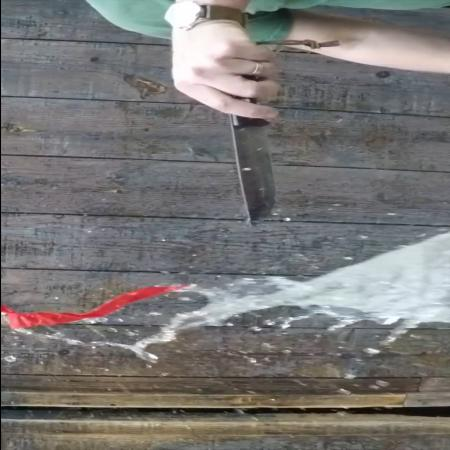long weapon: (166, 63, 284, 235)
